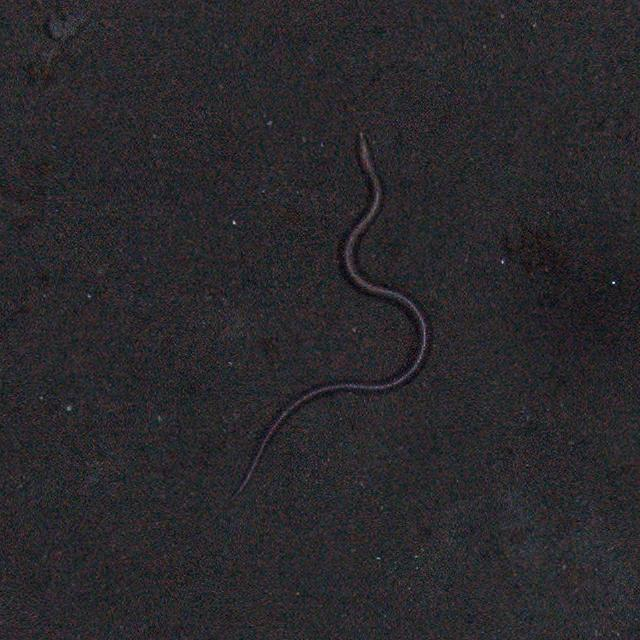eel: (230, 130, 436, 500)
